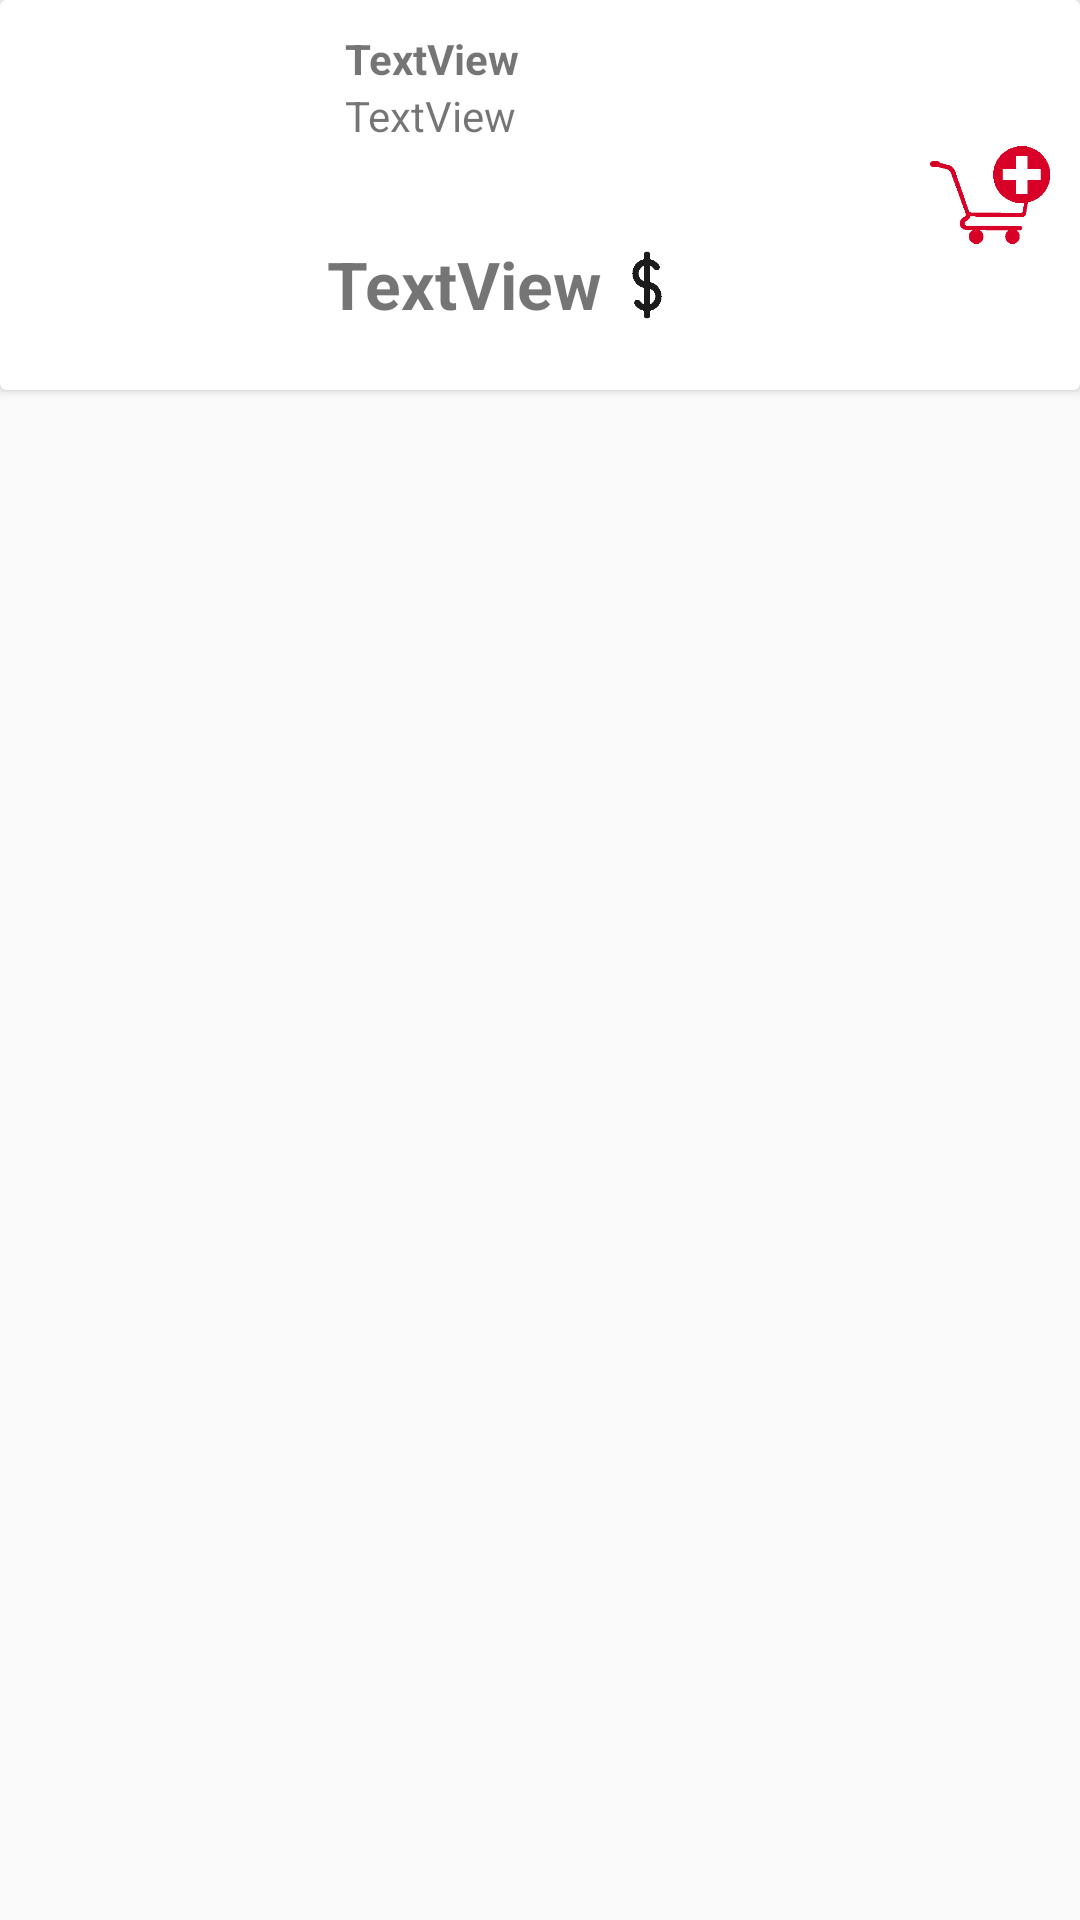

Named icons in this screenshot (1080px x 1920px) and their bounding boxes, [x1,y1,x2,y2]:
add to cart: [930,146,1050,244]
